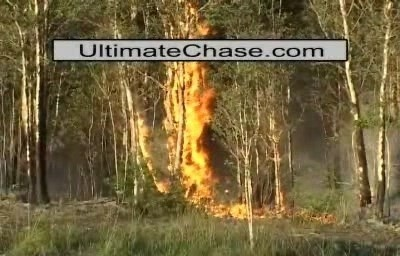fire: (158, 58, 224, 216), (167, 0, 211, 36)
